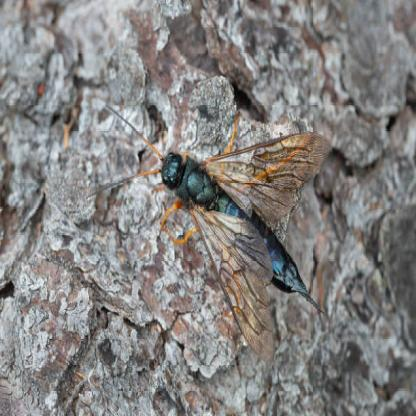sawfly: (99, 95, 332, 356)
